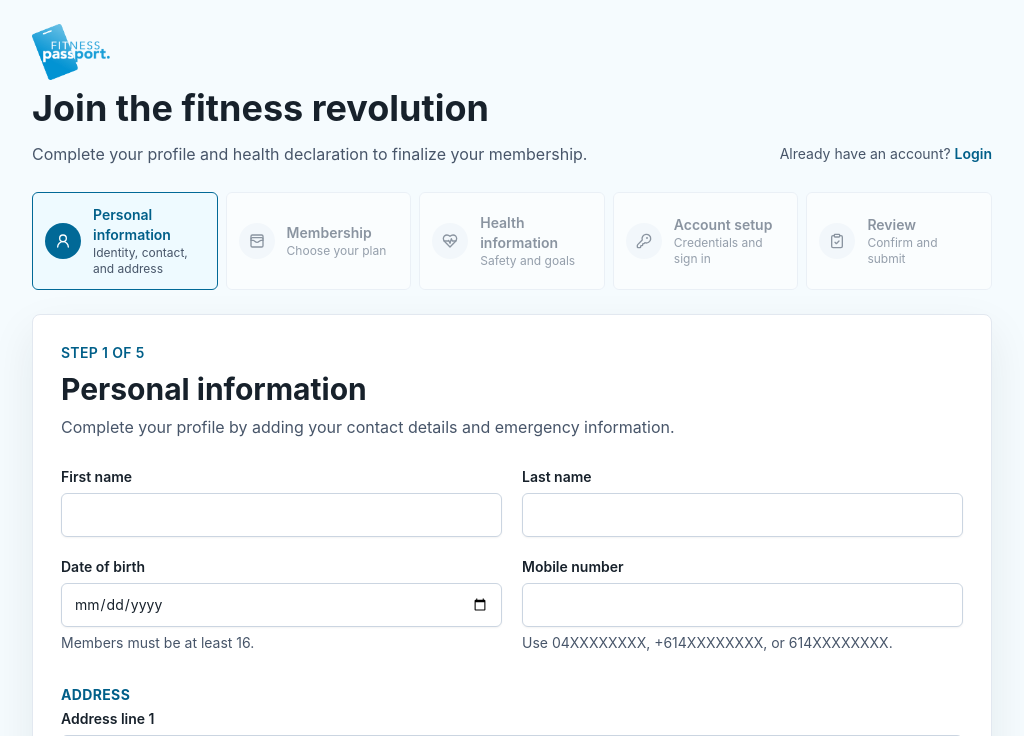
Test: auth flow › lets unauthenticated signup users navigate to login
The image size is (1024, 736).
Check: the heading "Join the fitness revolution" is shown, box [32,86,489,130]
Click the link "Login" at (973, 154), box [955,145,992,162]
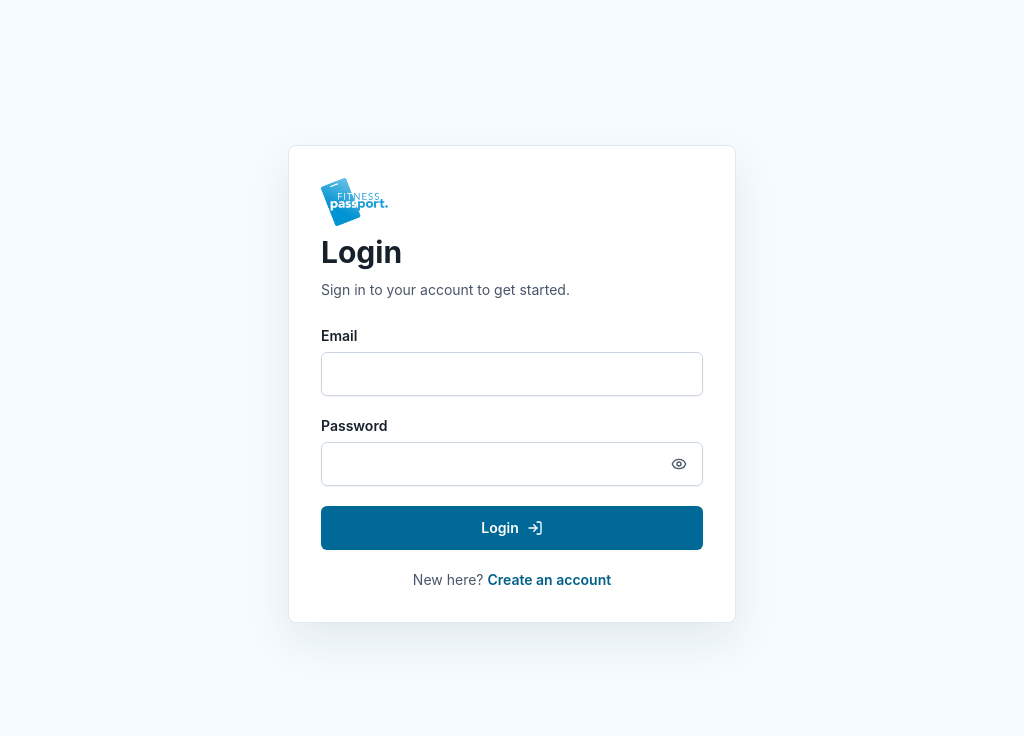
Check: the heading "Login" is shown, box [321,234,402,270]
